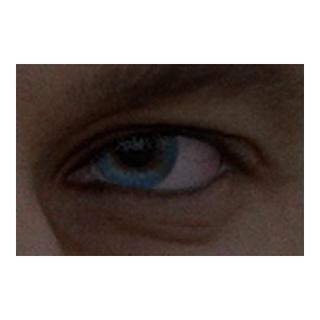pupil: (116, 128, 154, 166)
